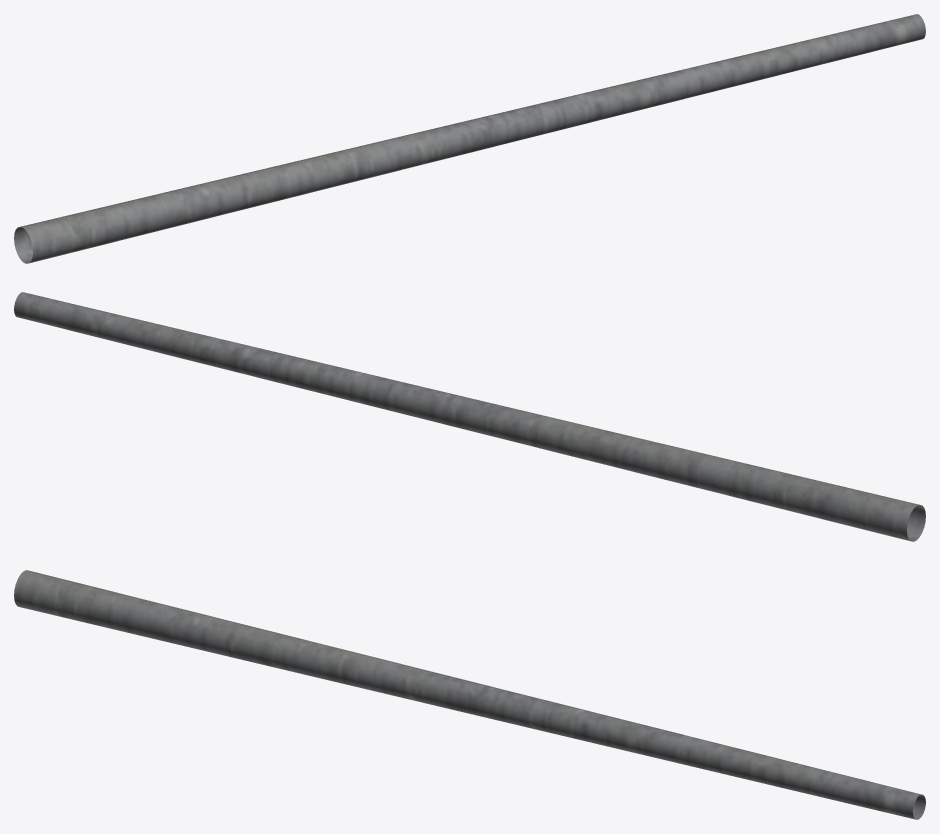
Rendered from armLevel0-v1-galvanised.glb.
The picture shows the model from 3 angles, top to bottom: view 1: azimuth 30°, elevation 25°; view 2: azimuth 150°, elevation 25°; view 3: azimuth 330°, elevation 25°; orthographic projection.
Parts seen in each view (by area): view 1: armLevel0-v1-galvanised; view 2: armLevel0-v1-galvanised; view 3: armLevel0-v1-galvanised.
Boxes of the visible parts, x1,y1,x2,y2 form: armLevel0-v1-galvanised: (14, 14, 925, 263); armLevel0-v1-galvanised: (14, 292, 925, 541); armLevel0-v1-galvanised: (14, 570, 925, 819).
Size of the model in its own units: 4.57 by 0.1683 by 0.1683.
Materials: 1 (1 with a texture image).
